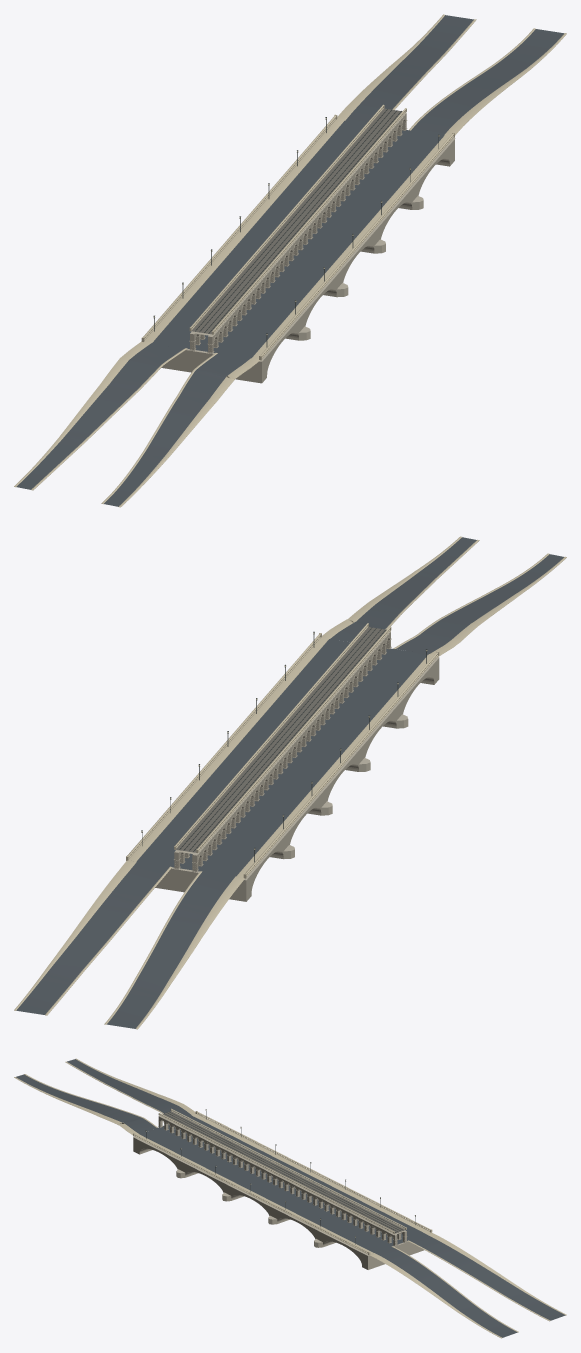
The model's file is pont-de-bercy-near.glb.
The picture shows the model from 3 angles, top to bottom: view 1: azimuth 30°, elevation 25°; view 2: azimuth 210°, elevation 25°; view 3: azimuth 270°, elevation 25°; orthographic projection. The views are drawn at different scales.
Parts seen in each view (by area): view 1: pont-de-bercy-0-asphalt, pont-de-bercy-0-trim, pont-de-bercy-1-asphalt, pont-de-bercy-0-ballast, pont-de-bercy-0-stone, pont-de-bercy-1-trim, pont-de-bercy-0-arcade, pont-de-bercy-0-metro, pont-de-bercy-1-arcade, pont-de-bercy-0-rail, pont-de-bercy-1-stone; view 2: pont-de-bercy-0-asphalt, pont-de-bercy-1-asphalt, pont-de-bercy-0-trim, pont-de-bercy-0-ballast, pont-de-bercy-1-trim, pont-de-bercy-0-arcade, pont-de-bercy-0-stone, pont-de-bercy-1-stone, pont-de-bercy-0-metro, pont-de-bercy-1-arcade, pont-de-bercy-0-rail; view 3: pont-de-bercy-0-asphalt, pont-de-bercy-1-asphalt, pont-de-bercy-0-trim, pont-de-bercy-0-ballast, pont-de-bercy-1-trim, pont-de-bercy-0-arcade, pont-de-bercy-0-stone, pont-de-bercy-0-metro, pont-de-bercy-1-arcade, pont-de-bercy-1-stone, pont-de-bercy-0-rail.
Boxes of the visible parts, x1=… form: pont-de-bercy-0-asphalt: x1=16, y1=121, x2=443, y2=506; pont-de-bercy-0-trim: x1=14, y1=116, x2=454, y2=507; pont-de-bercy-1-asphalt: x1=345, y1=15, x2=563, y2=135; pont-de-bercy-0-ballast: x1=191, y1=108, x2=402, y2=334; pont-de-bercy-0-stone: x1=161, y1=137, x2=455, y2=383; pont-de-bercy-1-trim: x1=241, y1=14, x2=566, y2=245; pont-de-bercy-0-arcade: x1=189, y1=109, x2=406, y2=353; pont-de-bercy-0-metro: x1=189, y1=105, x2=406, y2=334; pont-de-bercy-1-arcade: x1=308, y1=114, x2=407, y2=239; pont-de-bercy-0-rail: x1=195, y1=109, x2=401, y2=333; pont-de-bercy-1-stone: x1=361, y1=139, x2=454, y2=253; pont-de-bercy-0-asphalt: x1=136, y1=537, x2=563, y2=876; pont-de-bercy-1-asphalt: x1=16, y1=862, x2=234, y2=1028; pont-de-bercy-0-trim: x1=127, y1=536, x2=566, y2=877; pont-de-bercy-0-ballast: x1=176, y1=627, x2=386, y2=852; pont-de-bercy-1-trim: x1=14, y1=750, x2=340, y2=1029; pont-de-bercy-0-arcade: x1=176, y1=628, x2=391, y2=854; pont-de-bercy-0-stone: x1=172, y1=657, x2=439, y2=880; pont-de-bercy-1-stone: x1=155, y1=788, x2=332, y2=901; pont-de-bercy-0-metro: x1=175, y1=623, x2=391, y2=851; pont-de-bercy-1-arcade: x1=173, y1=746, x2=294, y2=871; pont-de-bercy-0-rail: x1=179, y1=627, x2=385, y2=851; pont-de-bercy-0-asphalt: x1=16, y1=1059, x2=425, y2=1252; pont-de-bercy-1-asphalt: x1=375, y1=1234, x2=565, y2=1337; pont-de-bercy-0-trim: x1=14, y1=1058, x2=430, y2=1253; pont-de-bercy-0-ballast: x1=161, y1=1111, x2=405, y2=1233; pont-de-bercy-1-trim: x1=253, y1=1174, x2=566, y2=1338; pont-de-bercy-0-arcade: x1=158, y1=1112, x2=405, y2=1234; pont-de-bercy-0-stone: x1=133, y1=1136, x2=407, y2=1255; pont-de-bercy-0-metro: x1=158, y1=1108, x2=405, y2=1233; pont-de-bercy-1-arcade: x1=276, y1=1177, x2=407, y2=1246; pont-de-bercy-1-stone: x1=268, y1=1207, x2=424, y2=1269; pont-de-bercy-0-rail: x1=164, y1=1111, x2=403, y2=1232.
Size of the model in its own units: 316 by 15.43 by 264.
